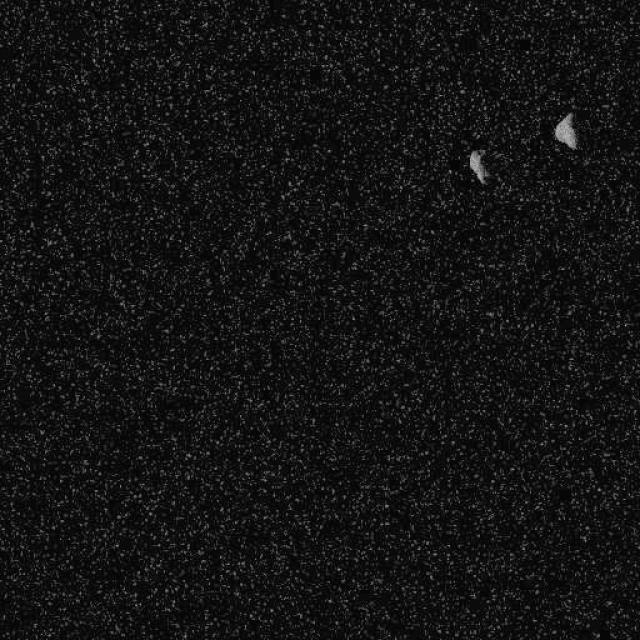D2: (552, 111, 578, 150), (468, 147, 488, 185)
